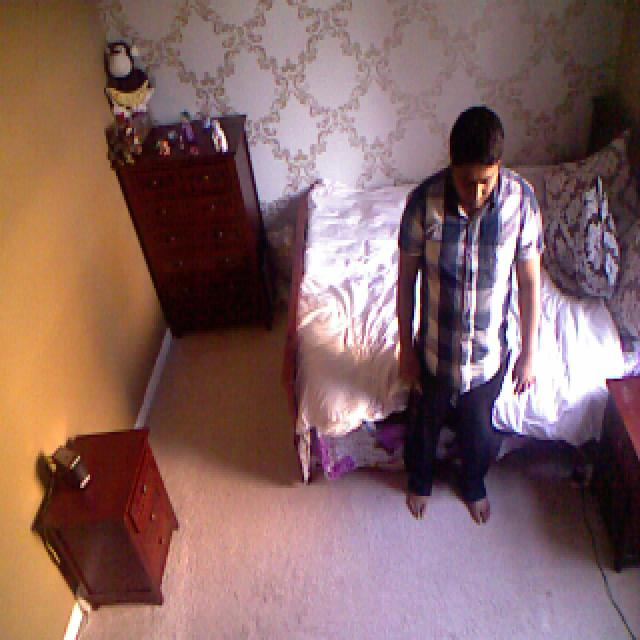standing: (401, 92, 546, 545)
